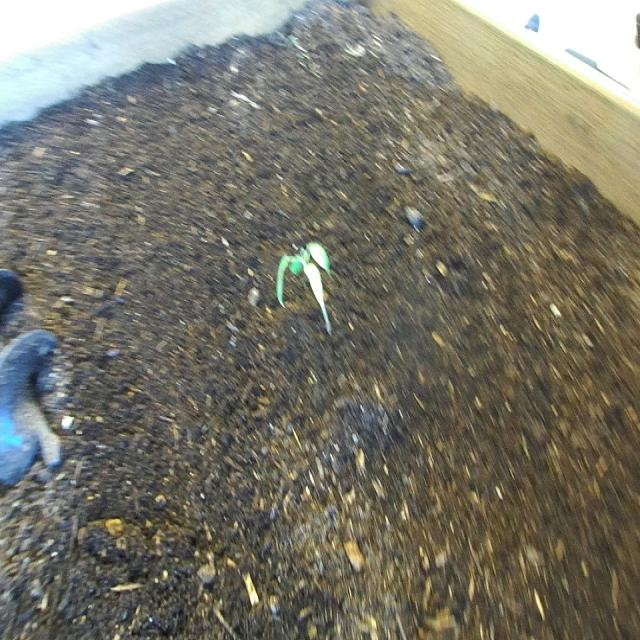Healthy: (271, 223, 344, 354)
